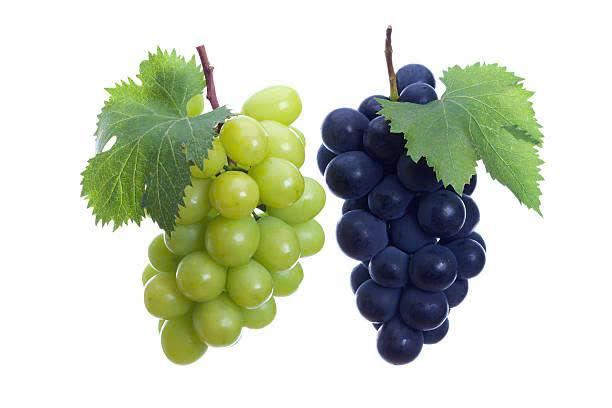grape: (329, 55, 522, 375), (136, 54, 304, 357)
